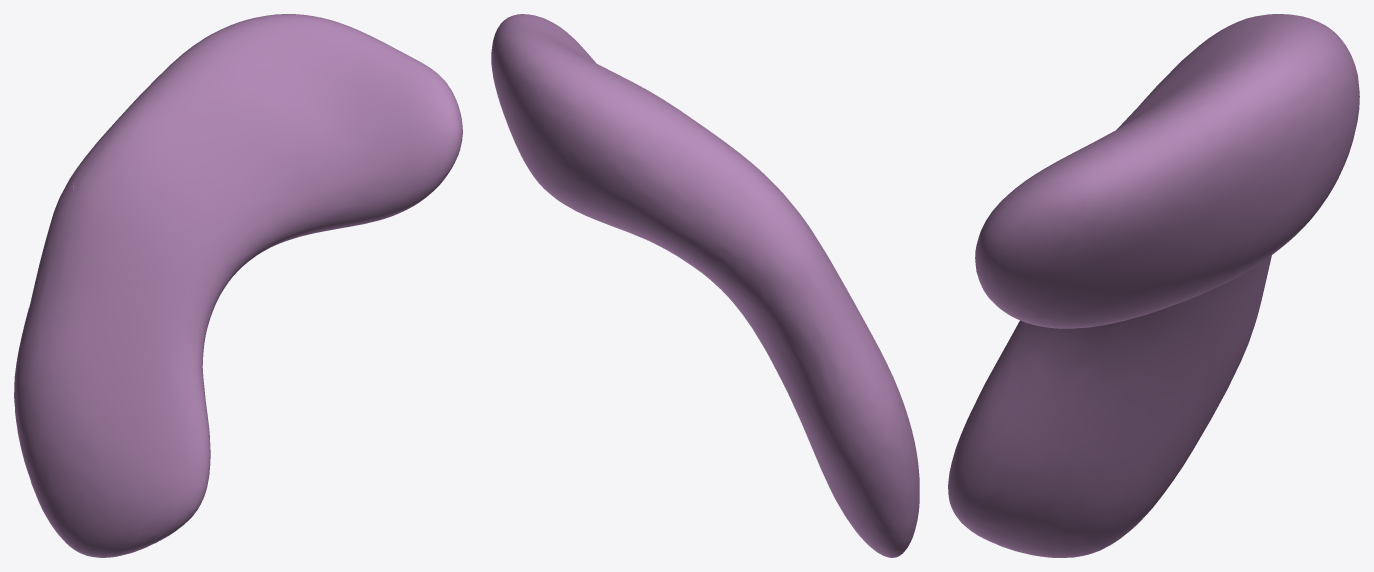
3 views of the same model, side by side, from view 1: azimuth 30°, elevation 25°; view 2: azimuth 150°, elevation 25°; view 3: azimuth 270°, elevation 25° (orthographic). The views are drawn at different scales.
Parts seen in each view (by area): view 1: 右侧薄小叶; view 2: 右侧薄小叶; view 3: 右侧薄小叶.
Part boxes in pixels (left/top/right/bottom): 右侧薄小叶: left=14, top=14, right=462, bottom=557; 右侧薄小叶: left=491, top=14, right=919, bottom=557; 右侧薄小叶: left=948, top=14, right=1359, bottom=557.
Size of the model in its own units: 0.0513 by 0.0539 by 0.0287.
